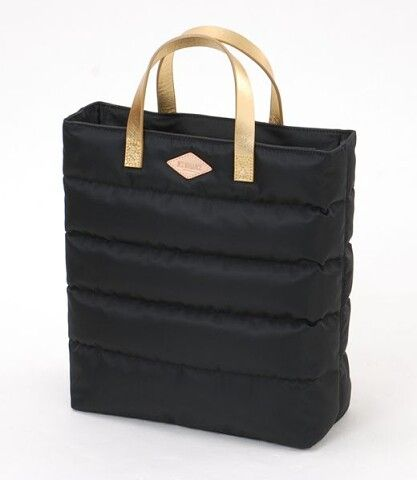nylon: (62, 102, 357, 452)
